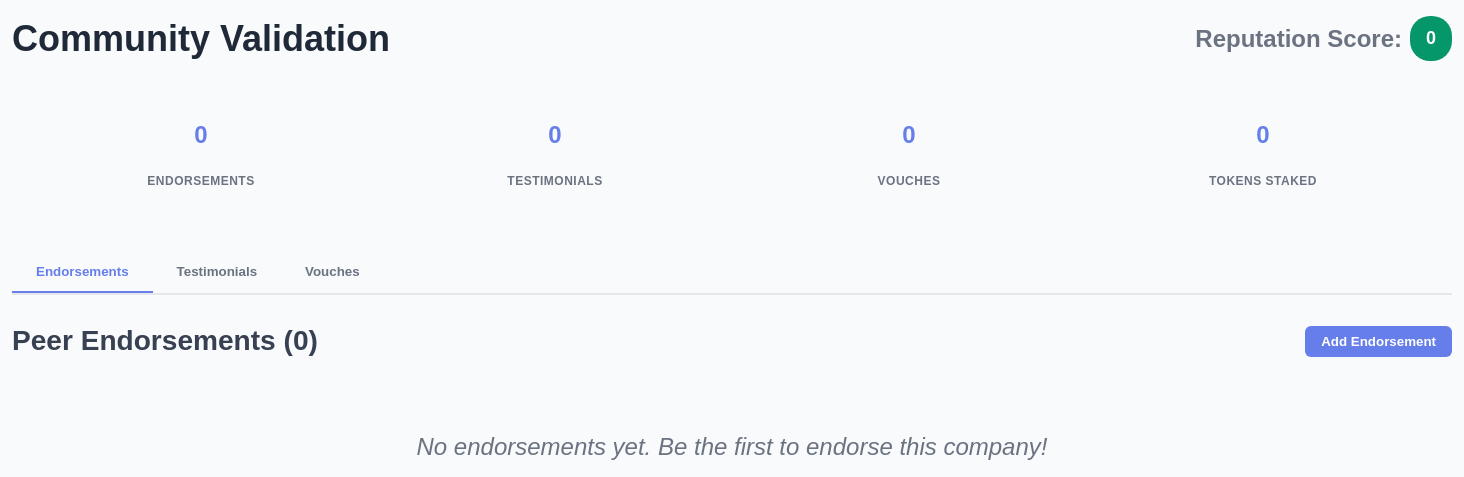
Test: CommunityValidation › Empty States › should show empty state for testimonials
Click the button "Testimonials": (217, 273) x1=153 y1=252 x2=281 y2=293
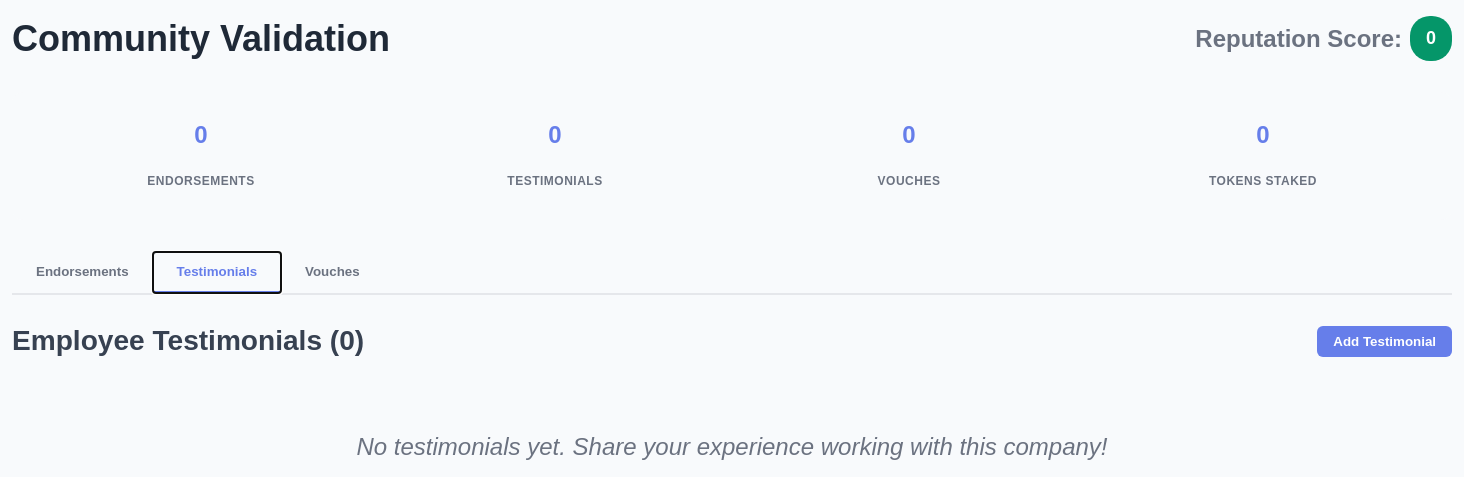
Result: the text "No testimonials yet. Share your experience working with this company!" is shown at x1=356 y1=433 x2=1108 y2=460
